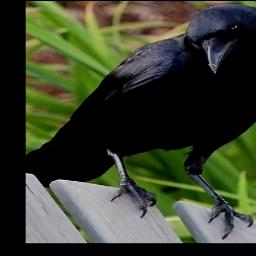Crow: (27, 5, 256, 240)
